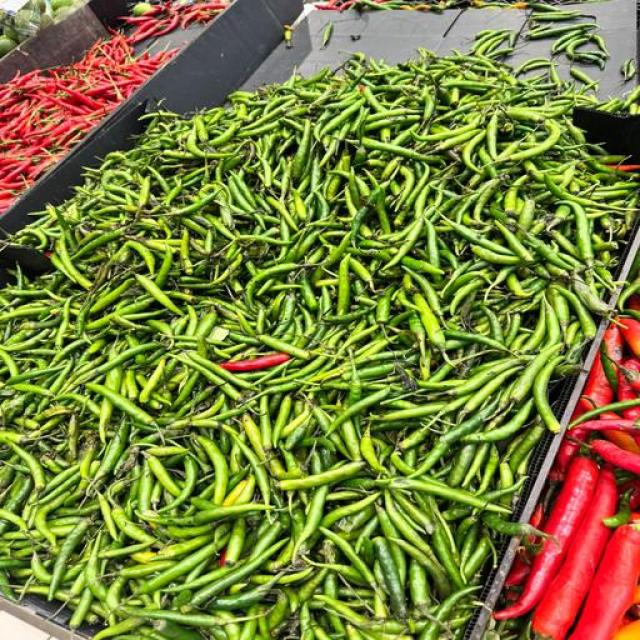organic: (0, 30, 638, 639), (0, 2, 227, 212), (494, 457, 598, 619), (533, 468, 617, 639), (570, 525, 639, 639), (410, 399, 497, 477), (190, 540, 286, 606), (385, 477, 509, 513), (140, 542, 218, 593), (144, 503, 271, 532), (319, 527, 376, 588), (390, 538, 451, 594), (48, 519, 89, 599), (229, 430, 271, 506), (508, 344, 561, 404), (174, 354, 241, 399), (463, 399, 533, 442), (420, 587, 477, 639), (327, 388, 391, 434), (87, 383, 154, 426), (462, 367, 519, 417), (373, 537, 407, 618), (497, 120, 561, 162), (573, 353, 613, 419), (447, 358, 516, 396), (445, 219, 512, 257), (293, 485, 328, 557), (278, 462, 364, 491), (577, 413, 639, 453), (87, 342, 159, 374), (94, 420, 131, 482), (380, 397, 468, 423), (245, 263, 301, 303), (159, 455, 198, 512), (123, 607, 224, 629), (52, 234, 92, 288), (197, 435, 228, 504), (432, 523, 464, 588), (384, 217, 424, 269), (215, 578, 278, 611), (320, 492, 379, 527), (569, 399, 639, 428), (534, 357, 561, 432), (7, 440, 46, 491), (315, 98, 364, 138), (164, 567, 229, 597), (580, 353, 613, 411), (553, 425, 588, 479), (135, 274, 182, 314), (187, 119, 234, 159), (523, 234, 572, 272), (580, 353, 613, 409), (405, 267, 442, 316), (483, 462, 526, 504), (362, 138, 433, 163), (509, 423, 544, 473), (567, 202, 594, 266), (494, 220, 534, 263), (568, 415, 639, 439), (314, 594, 367, 626), (413, 294, 444, 348), (590, 440, 639, 474), (462, 122, 493, 173), (60, 1, 152, 18), (112, 508, 156, 543), (154, 534, 211, 561), (394, 494, 433, 533), (248, 97, 292, 131), (84, 533, 106, 601), (544, 177, 594, 206), (73, 230, 123, 259), (39, 468, 79, 504), (147, 455, 181, 497), (518, 305, 548, 352), (3, 474, 33, 521), (448, 444, 481, 486), (257, 334, 311, 359), (573, 277, 609, 314), (463, 537, 493, 581), (220, 353, 289, 372), (444, 330, 506, 351), (483, 514, 541, 536), (408, 559, 431, 614), (5, 365, 64, 386), (248, 522, 282, 558), (139, 359, 166, 403), (414, 123, 476, 142), (94, 615, 143, 639), (455, 517, 479, 566), (120, 240, 154, 274), (43, 465, 78, 498), (473, 30, 514, 58), (293, 119, 312, 177), (505, 545, 531, 587), (360, 432, 386, 473), (173, 370, 201, 407), (324, 230, 352, 267), (547, 289, 569, 336), (472, 245, 521, 266), (529, 23, 597, 38), (299, 568, 328, 602), (603, 493, 631, 528), (253, 568, 313, 584), (505, 548, 529, 588), (400, 254, 443, 276), (435, 129, 478, 151), (69, 589, 93, 628), (175, 192, 217, 214), (225, 519, 246, 563), (98, 494, 118, 539), (618, 359, 639, 401), (0, 304, 46, 323), (493, 462, 514, 503), (337, 255, 351, 316), (99, 542, 152, 558), (532, 5, 581, 22), (154, 247, 173, 288), (352, 207, 371, 247), (603, 324, 623, 362), (105, 575, 126, 611), (620, 318, 639, 357), (618, 277, 639, 311), (363, 85, 387, 114), (619, 358, 639, 391), (0, 509, 28, 531), (99, 398, 113, 442), (485, 114, 498, 159), (300, 277, 317, 311), (518, 199, 536, 231), (570, 67, 597, 88), (32, 554, 51, 583), (148, 167, 169, 193), (622, 479, 639, 511), (0, 349, 18, 376), (12, 383, 49, 396), (147, 445, 187, 457), (300, 604, 314, 638), (620, 59, 637, 81), (239, 619, 257, 639), (605, 164, 639, 172), (322, 23, 333, 47), (625, 294, 639, 311), (219, 548, 226, 567)
